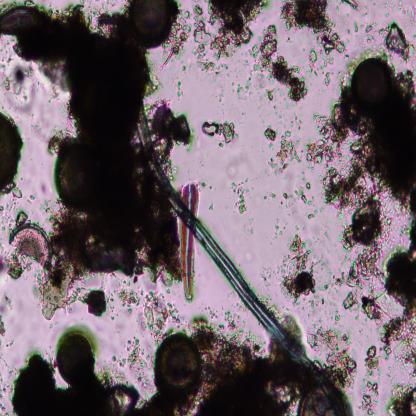Background material: (16, 1, 181, 309), (327, 67, 416, 212), (11, 354, 142, 415), (196, 323, 300, 382), (252, 22, 307, 103), (272, 230, 331, 301), (341, 196, 388, 285), (280, 0, 349, 60), (143, 388, 296, 414), (306, 318, 357, 388), (206, 0, 268, 57), (384, 210, 416, 312), (116, 286, 186, 332), (149, 102, 196, 164), (75, 270, 117, 324), (342, 282, 387, 332), (383, 310, 416, 372), (1, 61, 38, 110), (191, 2, 215, 73), (359, 342, 382, 415), (118, 336, 152, 384), (383, 23, 416, 66), (282, 184, 321, 220), (170, 1, 192, 63), (273, 129, 302, 175), (304, 116, 330, 165), (192, 304, 237, 332), (200, 120, 240, 148), (386, 380, 416, 414), (306, 51, 333, 88), (230, 177, 253, 214), (0, 246, 25, 278), (274, 104, 301, 130), (382, 1, 416, 19), (226, 155, 246, 179), (235, 79, 254, 104), (256, 264, 274, 288), (178, 64, 188, 102), (366, 22, 377, 45), (0, 304, 7, 338), (244, 215, 255, 235), (342, 0, 360, 11), (265, 128, 278, 143), (350, 20, 366, 32), (266, 187, 277, 203), (242, 246, 253, 262), (274, 222, 282, 240), (209, 204, 214, 212)
Diatom: (53, 134, 104, 216), (151, 328, 206, 402), (351, 57, 394, 119), (8, 220, 53, 274), (0, 112, 25, 204), (56, 331, 97, 387), (181, 182, 200, 300), (291, 385, 354, 416), (130, 1, 171, 45), (0, 4, 39, 33)
Microfibre: (135, 110, 325, 384)
